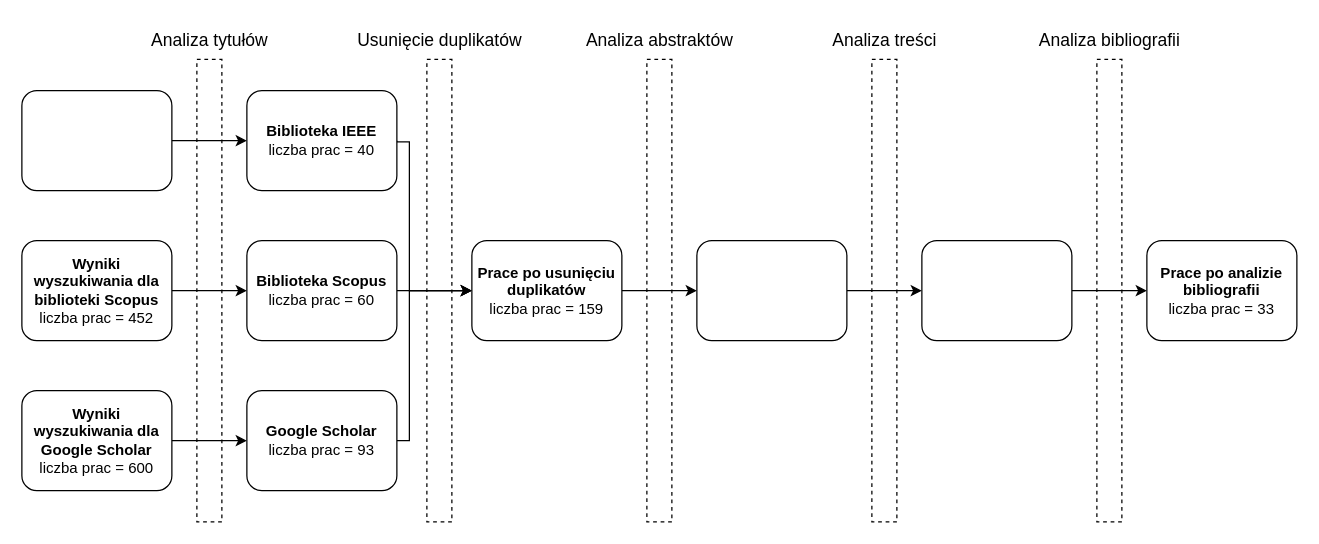
This 1319x544 diagram has some shape labels left out. The shapes that lost their labels are listed below. From the top down, each one's centre as x and y in pixels, then its label:
the point at 96,140: Wyniki wyszukiwania dla biblioteki IEEE liczba prac = 130
the point at 771,290: Prace po analizie abstraktów liczba prac = 52
the point at 996,290: Prace po analizie treści liczba prac = 31
